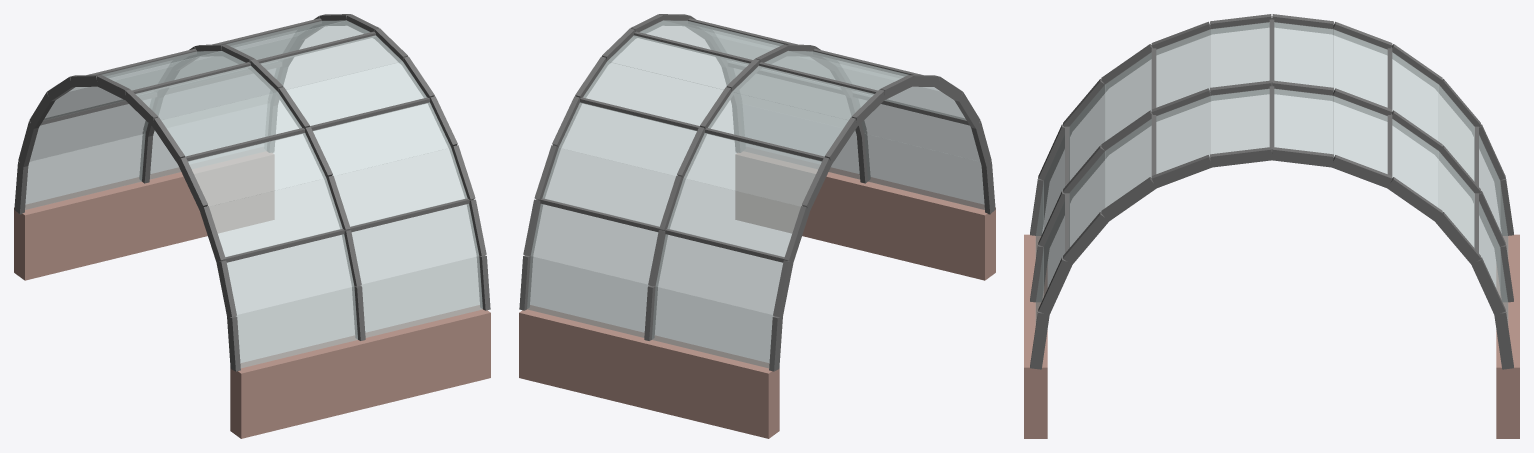
The model's file is chatsworth-glasshouse-rib-bay.glb.
3 views of the same model, side by side, from view 1: azimuth 30°, elevation 25°; view 2: azimuth 150°, elevation 25°; view 3: azimuth 270°, elevation 25° (orthographic). The views are drawn at different scales.
Parts seen in each view (by area): view 1: SideWall_S, SideWall_N, Glass_1_1, Glass_0_1, Glass_0_2, Glass_1_2, Glass_1_0, Glass_0_0, Glass_0_3, Glass_1_3, Glass_0_11, Glass_1_4 (+38 smaller); view 2: SideWall_N, SideWall_S, Glass_1_10, Glass_0_10, Glass_0_9, Glass_1_9, Glass_1_11, Glass_0_11, Glass_0_8, Glass_1_8, Glass_0_0, Glass_1_7 (+38 smaller); view 3: Glass_0_6, Glass_1_6, Glass_0_5, Glass_1_5, SideWall_S, SideWall_N, Glass_0_4, Glass_0_7, Glass_1_4, Glass_1_7, Glass_0_3, Glass_0_8 (+51 smaller).
Part boxes in pixels (<box>): SideWall_S: <box>230,305,490,438</box>; SideWall_N: <box>14,151,274,280</box>; Glass_1_1: <box>351,203,479,284</box>; Glass_0_1: <box>227,234,354,314</box>; Glass_0_2: <box>209,178,342,257</box>; Glass_1_2: <box>334,148,467,226</box>; Glass_1_0: <box>360,256,482,337</box>; Glass_0_0: <box>236,286,357,368</box>; Glass_0_3: <box>188,133,325,206</box>; Glass_1_3: <box>313,102,450,175</box>; Glass_0_11: <box>25,134,145,209</box>; Glass_1_4: <box>286,61,426,125</box>; SideWall_N: <box>519,305,779,438</box>; SideWall_S: <box>735,151,995,280</box>; Glass_1_10: <box>530,203,658,284</box>; Glass_0_10: <box>655,234,782,314</box>; Glass_0_9: <box>667,178,800,257</box>; Glass_1_9: <box>542,148,675,226</box>; Glass_1_11: <box>527,256,649,337</box>; Glass_0_11: <box>652,286,773,368</box>; Glass_0_8: <box>684,133,821,206</box>; Glass_1_8: <box>559,102,696,175</box>; Glass_0_0: <box>864,134,984,209</box>; Glass_1_7: <box>583,61,723,125</box>; Glass_0_6: <box>1274,22,1332,87</box>; Glass_1_6: <box>1274,88,1332,154</box>; Glass_0_5: <box>1211,22,1269,87</box>; Glass_1_5: <box>1211,88,1269,154</box>; SideWall_S: <box>1024,234,1047,438</box>; SideWall_N: <box>1496,234,1519,438</box>; Glass_0_4: <box>1156,29,1210,107</box>; Glass_0_7: <box>1333,29,1387,107</box>; Glass_1_4: <box>1156,95,1210,173</box>; Glass_1_7: <box>1333,96,1387,173</box>; Glass_0_3: <box>1105,52,1151,141</box>; Glass_0_8: <box>1392,52,1438,141</box>.
Size of the model in its own units: 4.08 by 4.07 by 6.3.
